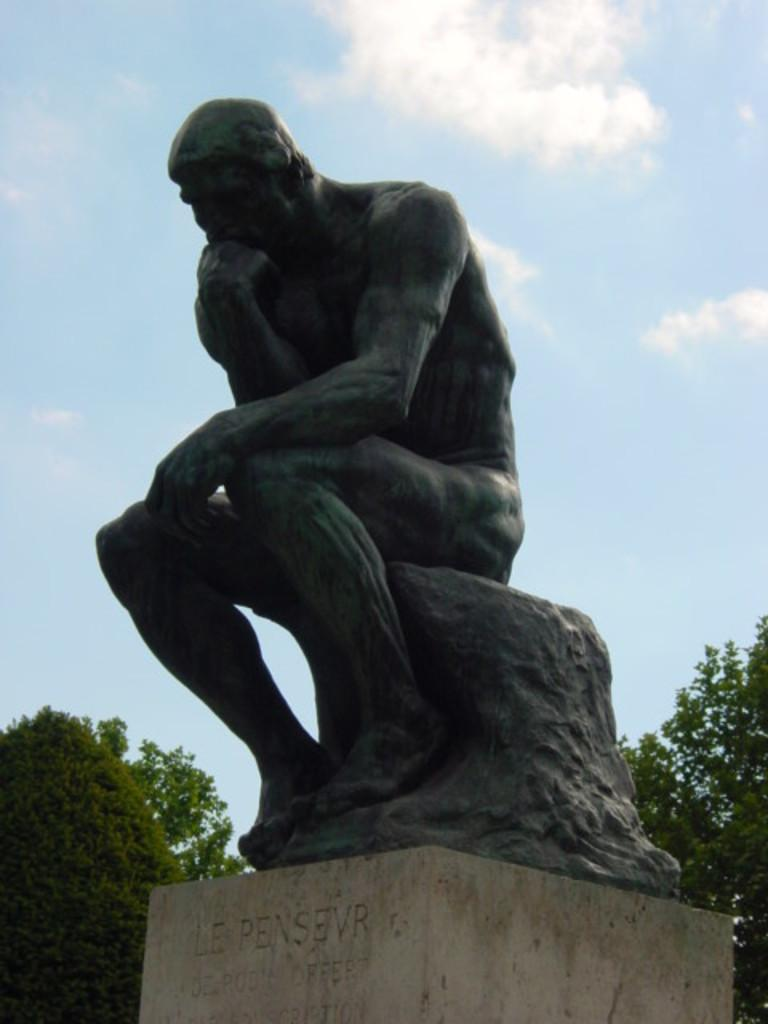Sem Máscara: (179, 165, 292, 249)
